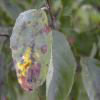Apple Scab Leaf: (9, 5, 55, 92)
